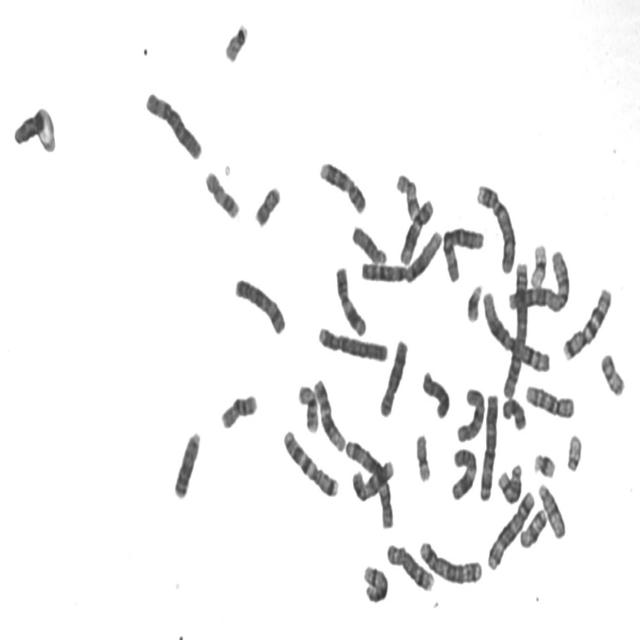A1: (479, 286, 552, 375), (359, 226, 443, 286)
A2: (506, 247, 571, 313), (502, 263, 530, 402)
A3: (343, 435, 395, 531), (477, 390, 500, 503)
B4: (474, 180, 516, 276), (316, 323, 388, 364)
B5: (485, 487, 537, 572), (417, 537, 483, 586)
C10: (523, 381, 576, 421), (454, 384, 486, 444)
C11: (333, 262, 368, 339), (449, 443, 478, 503)
C12: (397, 194, 435, 267), (312, 374, 346, 454)
C6: (142, 87, 204, 162), (440, 223, 486, 284)
C7: (280, 426, 340, 500), (560, 283, 614, 363)
C8: (384, 538, 436, 593), (378, 335, 410, 420)
C9: (316, 158, 368, 216), (352, 460, 394, 502)
D13: (172, 427, 202, 501), (421, 370, 451, 420)
D14: (495, 459, 523, 506), (361, 560, 389, 605)
D15: (536, 480, 567, 540), (349, 222, 388, 266)
E16: (218, 389, 259, 431), (296, 382, 320, 434)
E17: (202, 167, 242, 221), (394, 170, 421, 221)
E18: (520, 508, 548, 552), (500, 394, 528, 432)
F19: (528, 239, 549, 290), (413, 430, 432, 485)
F20: (252, 182, 282, 229), (598, 349, 626, 398)
G21: (464, 280, 484, 324), (531, 449, 557, 480)
G22: (222, 19, 250, 64), (564, 431, 584, 474)
X: (232, 274, 287, 337)
Y: (14, 113, 44, 147)
